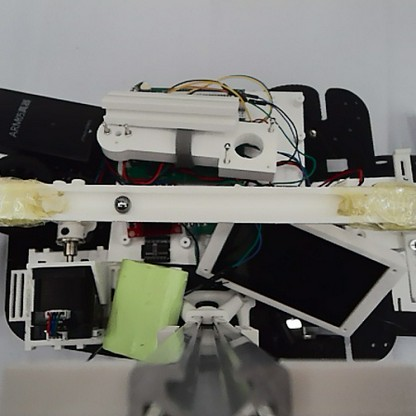ironball: (112, 193, 132, 214)
